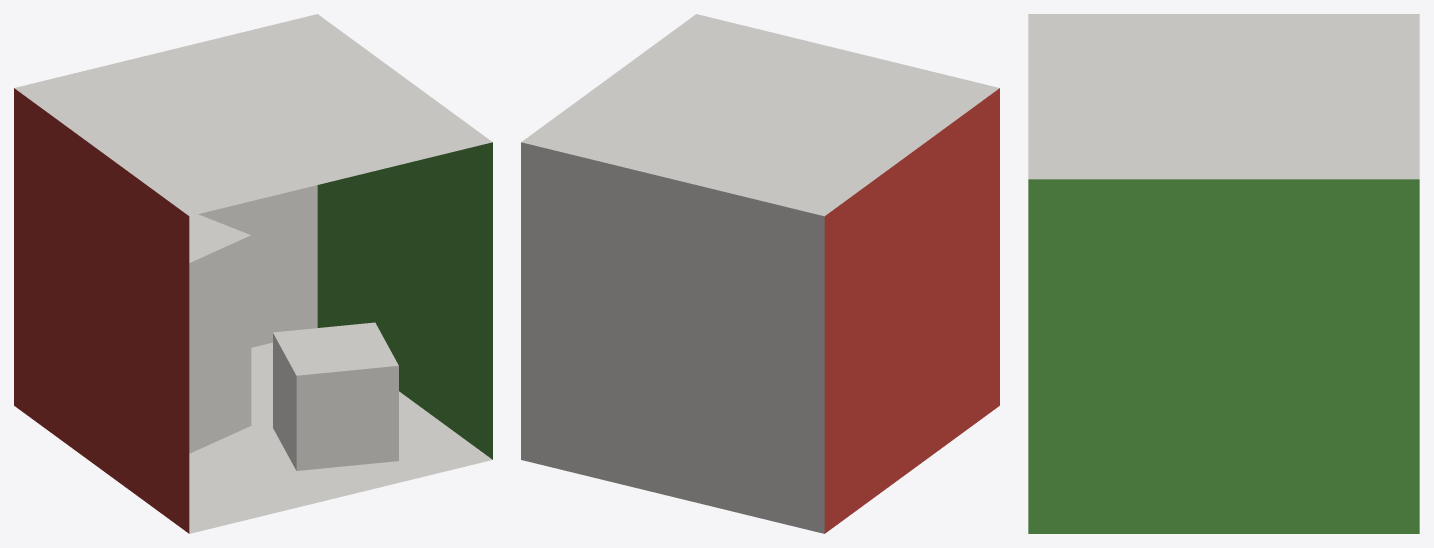
Rendered from cornell-box.dae.
The picture shows the model from 3 angles, left to right: view 1: azimuth 30°, elevation 25°; view 2: azimuth 150°, elevation 25°; view 3: azimuth 270°, elevation 25°; orthographic projection. The views are drawn at different scales.
Visible parts, largest first — view 1: walls, short-cube, long-cube; view 2: walls; view 3: walls.
Part boxes in pixels (x1=…): walls: x1=14, y1=14, x2=492, y2=533; short-cube: x1=273, y1=322, x2=398, y2=470; long-cube: x1=189, y1=214, x2=251, y2=453; walls: x1=521, y1=14, x2=999, y2=533; walls: x1=1028, y1=14, x2=1419, y2=533.
Bounding box in the file's own units: 2 × 2 × 2.
